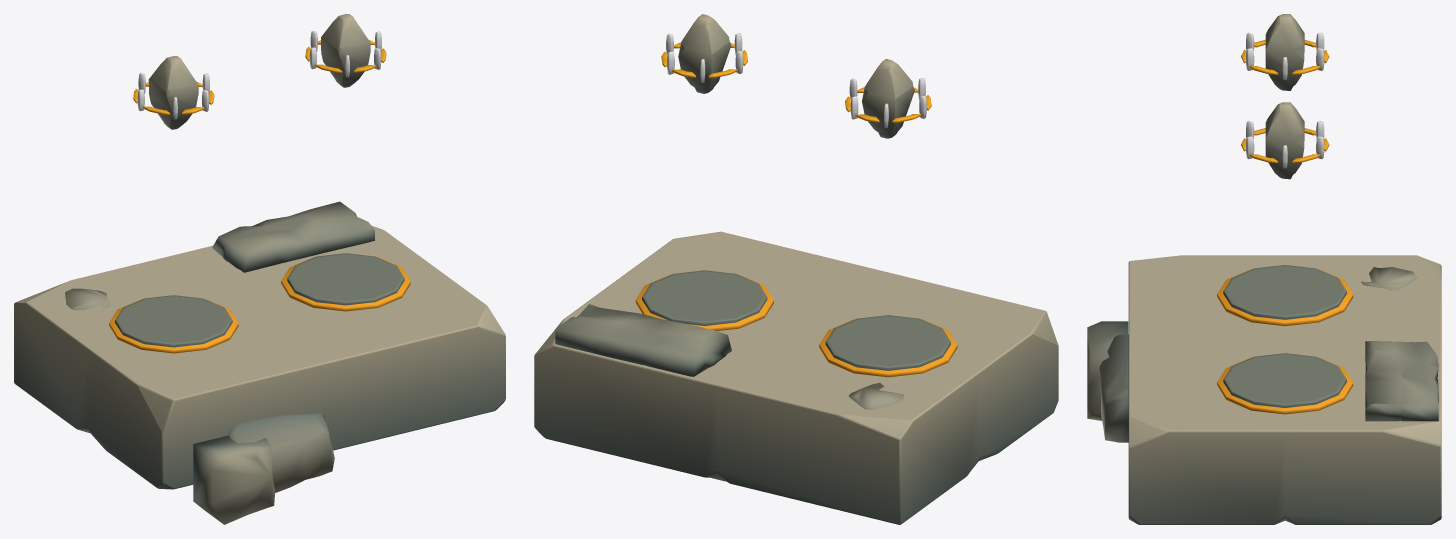
Rendered from blok step on.fbx.
3 views of the same model, side by side, from view 1: azimuth 30°, elevation 25°; view 2: azimuth 150°, elevation 25°; view 3: azimuth 270°, elevation 25° (orthographic). The views are drawn at different scales.
Visible parts, largest first — view 1: Cube.007, Cube.038, Cube.047, Circle.016, Circle.014, Cube.048, Circle, Circle.002, Cube.075, Circle.001, Circle.003; view 2: Cube.007, Cube.038, Circle.016, Circle.014, Circle.002, Circle, Cube.075, Circle.003, Circle.001; view 3: Cube.007, Circle.014, Circle.016, Cube.038, Circle.002, Circle, Cube.048, Cube.047, Cube.075, Circle.003, Circle.001.
Boxes of the visible parts, x1,y1,x2,y2 form: Cube.007: [14, 225, 505, 489]; Cube.038: [212, 201, 374, 272]; Cube.047: [193, 435, 275, 524]; Circle.016: [109, 295, 238, 353]; Circle.014: [281, 253, 410, 311]; Cube.048: [228, 413, 334, 492]; Circle: [133, 56, 214, 129]; Circle.002: [305, 14, 386, 87]; Cube.075: [65, 288, 109, 310]; Circle.001: [137, 72, 209, 119]; Circle.003: [309, 31, 381, 77]; Cube.007: [534, 231, 1058, 524]; Cube.038: [555, 304, 731, 376]; Circle.016: [819, 315, 957, 377]; Circle.014: [635, 270, 773, 330]; Circle.002: [661, 14, 747, 93]; Circle: [845, 59, 931, 138]; Cube.075: [848, 382, 903, 409]; Circle.003: [666, 33, 743, 82]; Circle.001: [849, 78, 926, 127]; Cube.007: [1128, 255, 1441, 524]; Circle.014: [1217, 353, 1353, 414]; Circle.016: [1217, 265, 1353, 326]; Cube.038: [1365, 341, 1438, 421]; Circle.002: [1241, 102, 1329, 179]; Circle: [1241, 14, 1329, 90]; Cube.048: [1099, 334, 1128, 442]; Cube.047: [1087, 321, 1128, 420]; Cube.075: [1361, 267, 1417, 290]; Circle.003: [1246, 121, 1324, 168]; Circle.001: [1246, 32, 1324, 79].
Size of the model in its own units: 400 by 431 by 339.
Materials: 2 (1 with a texture image).
